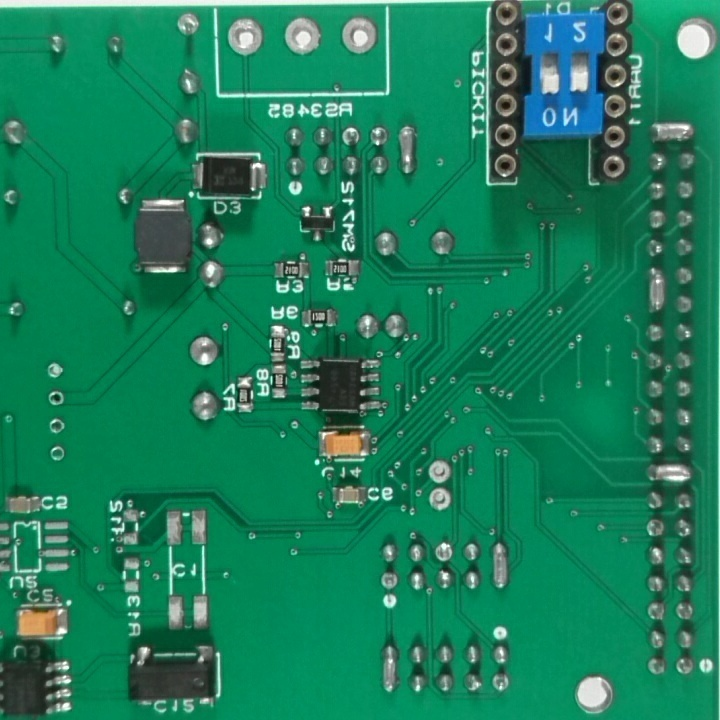F: (280, 13, 323, 60), (339, 15, 381, 59), (225, 16, 267, 59), (174, 12, 205, 38), (674, 600, 699, 626), (341, 126, 364, 151), (491, 670, 511, 698), (378, 571, 401, 595), (644, 516, 666, 541), (433, 540, 454, 566), (45, 359, 65, 383), (675, 655, 695, 679), (46, 445, 68, 464), (46, 391, 65, 411), (48, 418, 67, 437)
P: (396, 123, 421, 181), (379, 642, 403, 700), (488, 540, 514, 593), (644, 461, 697, 486), (648, 121, 697, 145), (648, 266, 668, 317)
